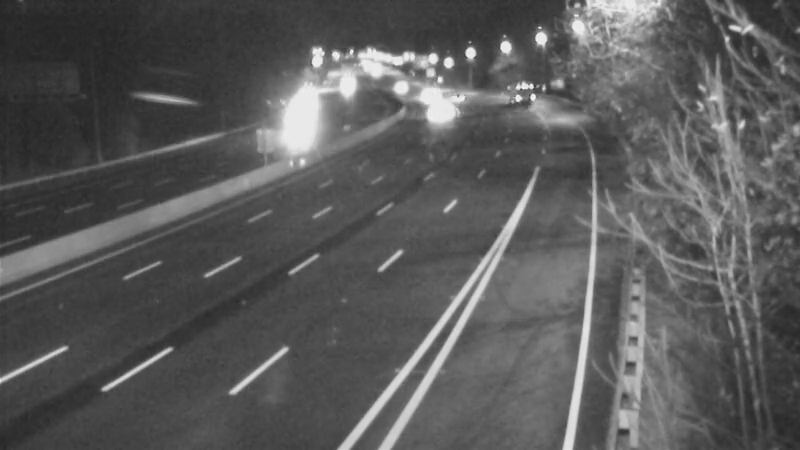vehicle: (373, 60, 423, 110), (491, 67, 541, 117), (405, 70, 455, 120), (432, 73, 482, 123), (411, 86, 461, 136)
